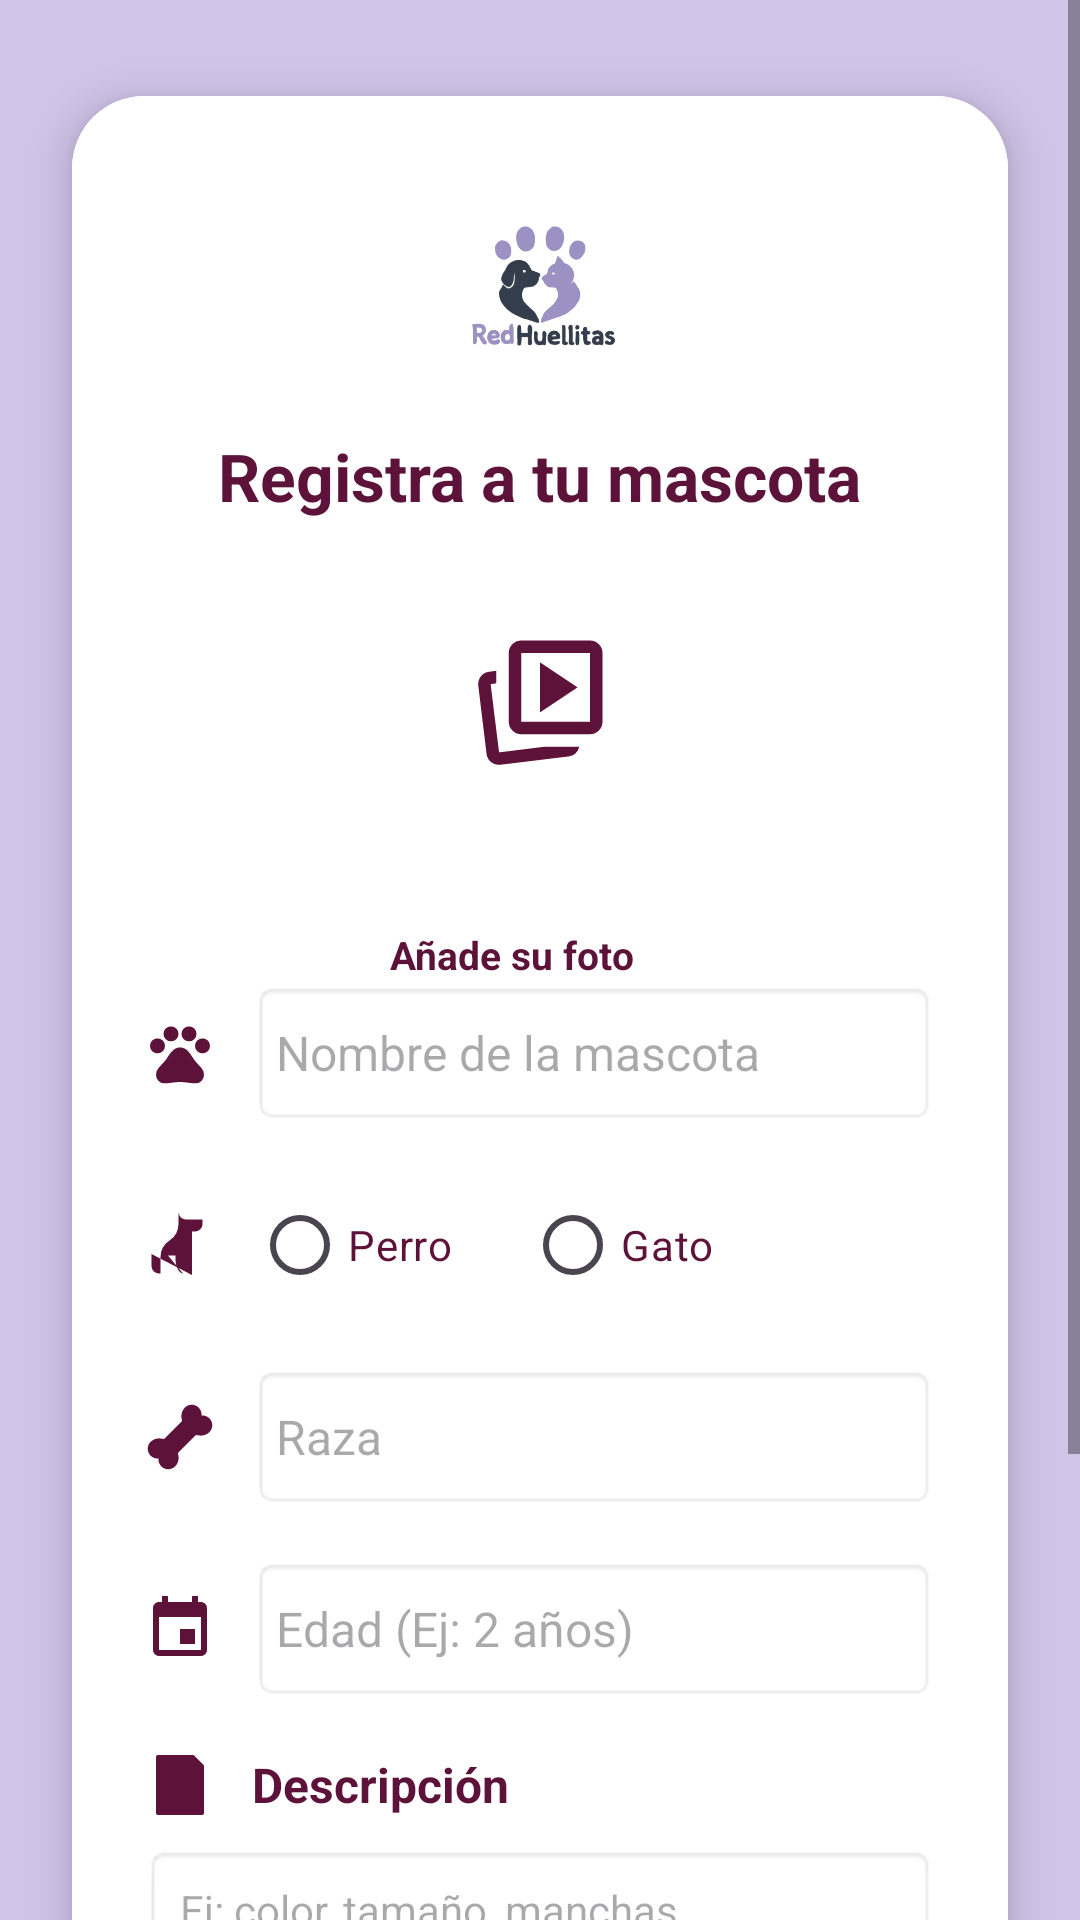

Screen size 1080px x 1920px. Icon name, then its box in pixels as [left=x1, top=y1, right=x2, bottom=y2]:
Icono calendario: [left=153, top=1596, right=207, bottom=1656]
Icono de mascotas: [left=151, top=1213, right=203, bottom=1275]
Icono hoja: [left=156, top=1755, right=204, bottom=1815]
Icono hueso: [left=147, top=1404, right=213, bottom=1470]
Icono pata: [left=150, top=1026, right=210, bottom=1084]
